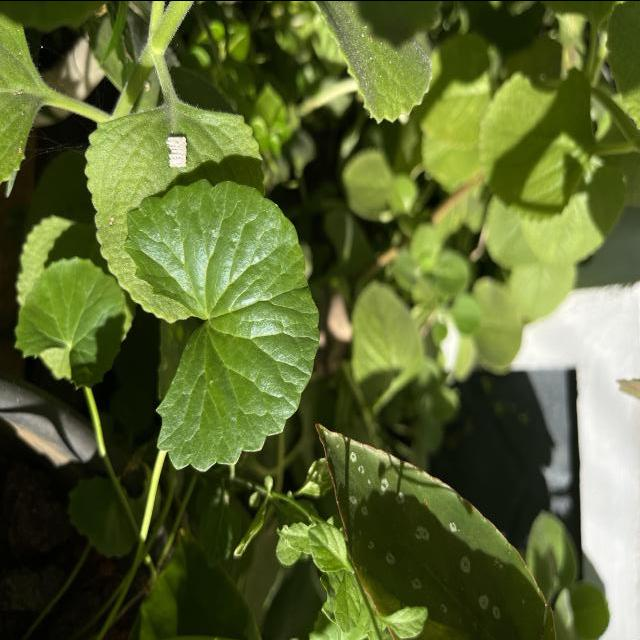Centella asiatica: (122, 175, 323, 474)
